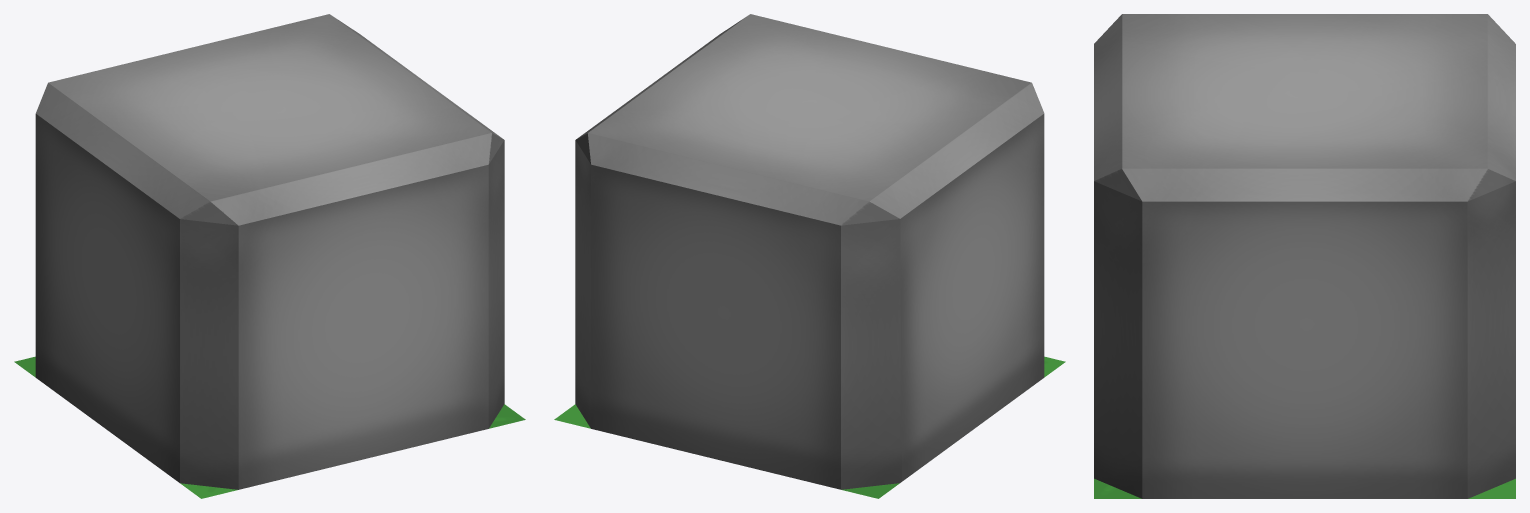
Rendered from wall.gltf.
3 views of the same model, side by side, from view 1: azimuth 30°, elevation 25°; view 2: azimuth 150°, elevation 25°; view 3: azimuth 270°, elevation 25° (orthographic). The views are drawn at different scales.
Visible parts, largest first — view 1: Cube, plane_Plane; view 2: Cube, plane_Plane; view 3: Cube, plane_Plane.
Boxes of the visible parts, <box> form: Cube: <box>35,14,504,489</box>; plane_Plane: <box>14,356,525,498</box>; Cube: <box>575,14,1044,489</box>; plane_Plane: <box>554,356,1065,498</box>; Cube: <box>1094,14,1515,498</box>; plane_Plane: <box>1094,478,1515,498</box>.
Size of the model in its own units: 2.4 by 2 by 2.4.
Materials: 2 (2 with a texture image).
